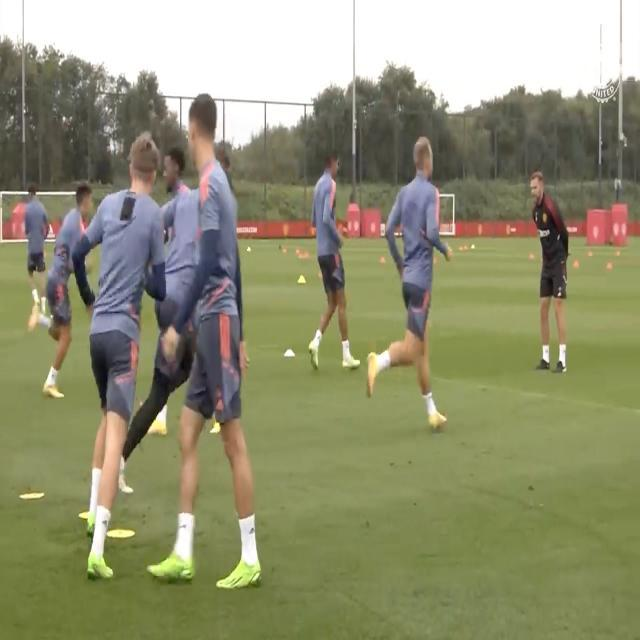Adidas: (215, 397, 225, 414), (248, 523, 257, 538)
